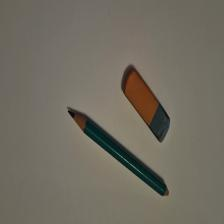eraser: (124, 70, 171, 144)
pencil: (68, 111, 170, 198)
